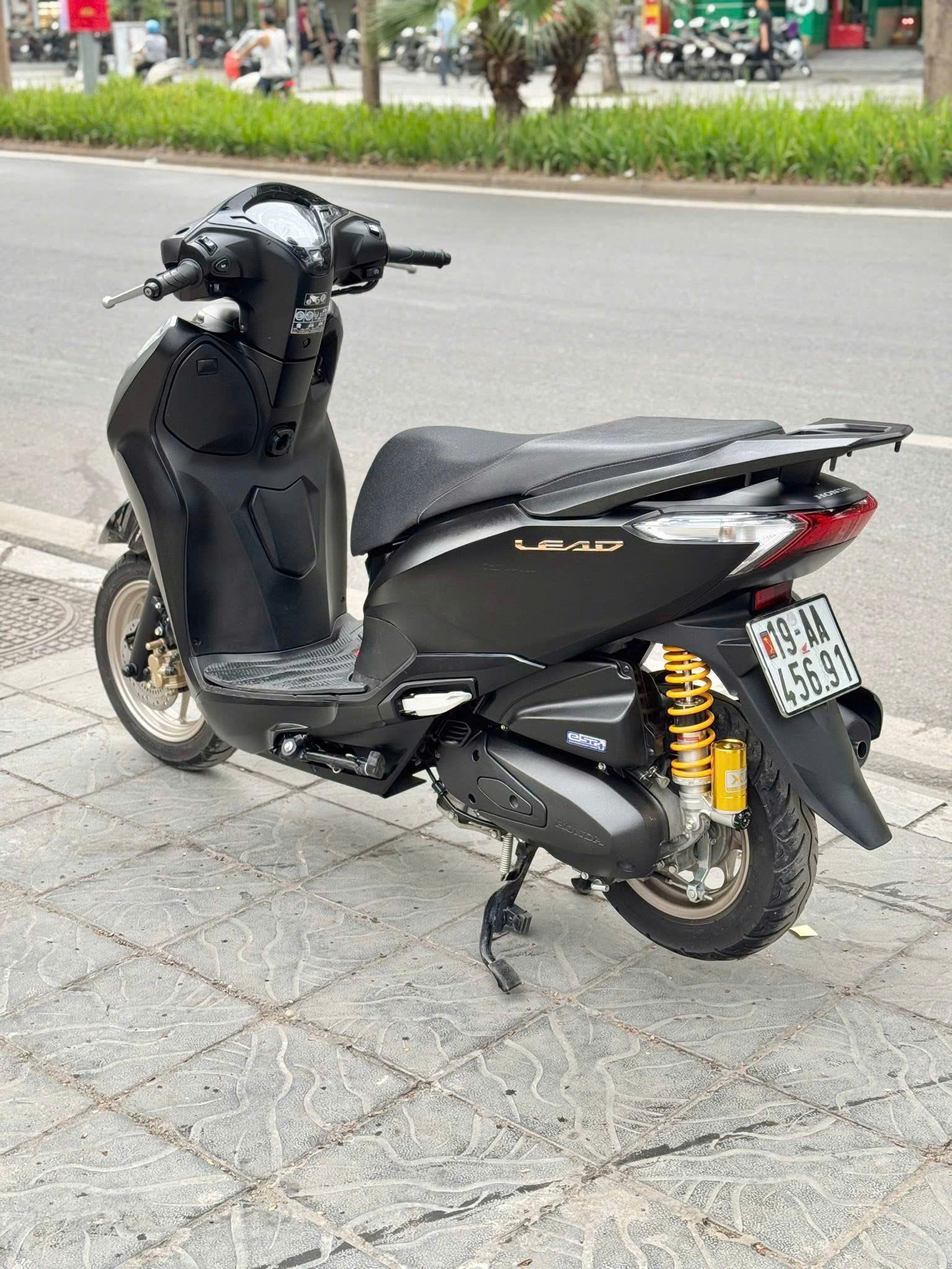Bien-so: (748, 591, 862, 717)
